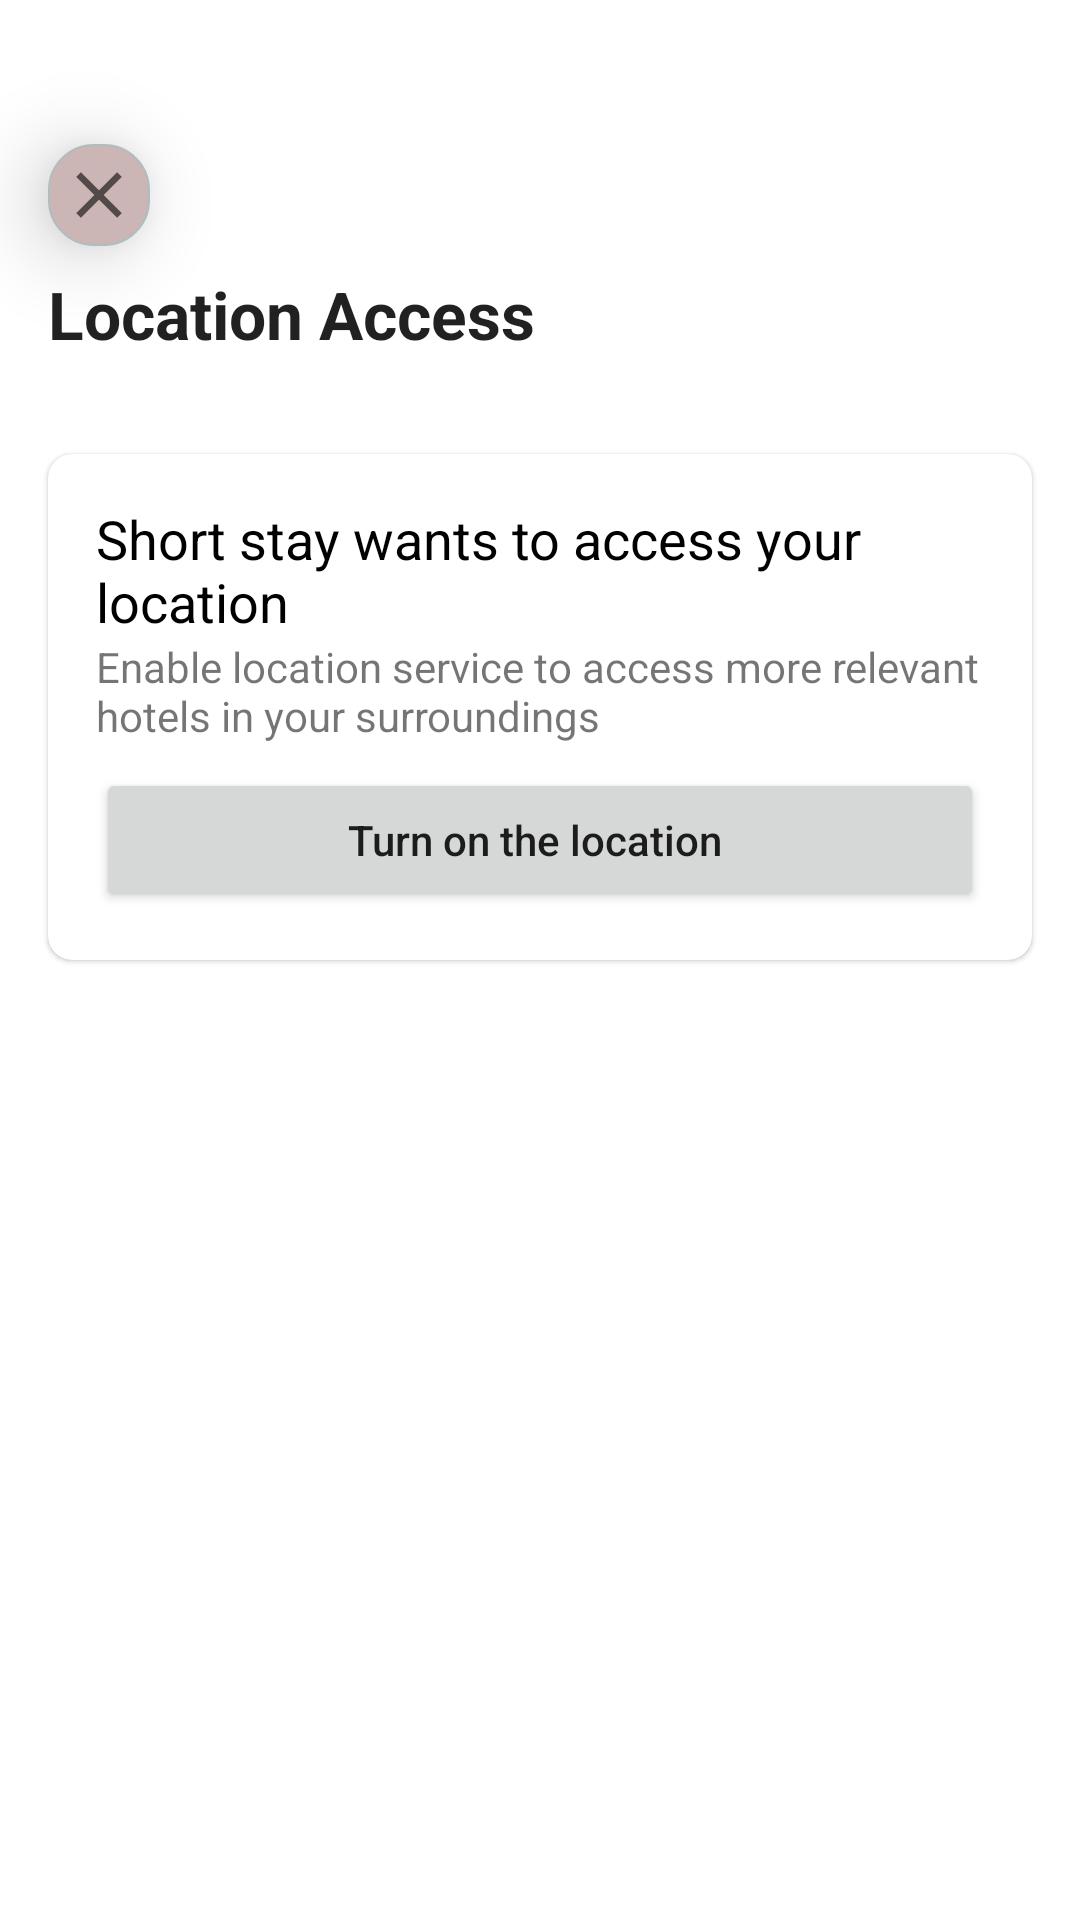

Icons on this 1080w x 1920h Android screen, each with the point to tap as point (x, y):
close: point (99, 195)
